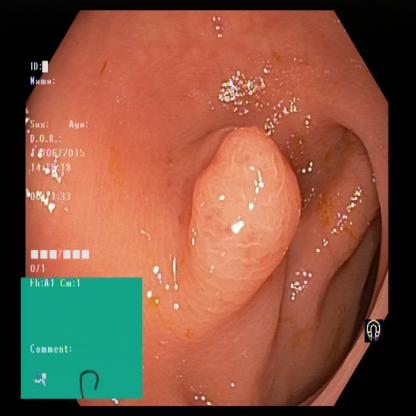Labels: (24, 55, 112, 278), (21, 278, 143, 401), (361, 310, 389, 349)
Polyps: (188, 117, 304, 295)
